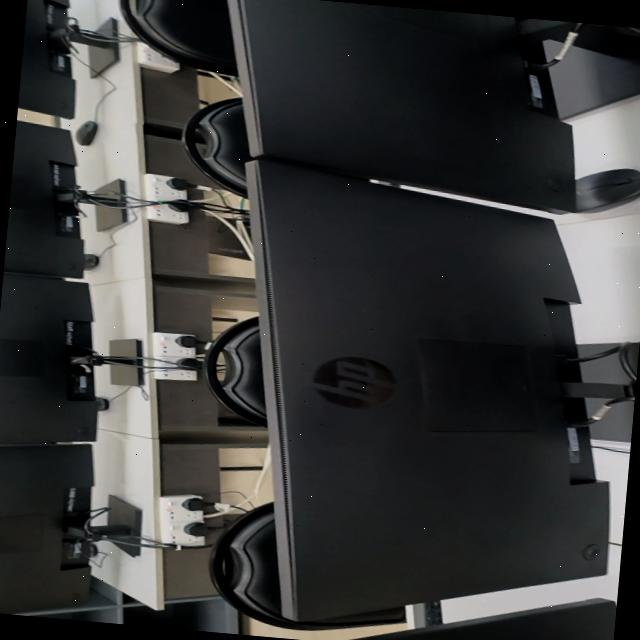Chair: (209, 501, 404, 629), (120, 0, 237, 75), (181, 96, 252, 197), (202, 316, 267, 426)
Monitor: (248, 159, 608, 619), (228, 0, 575, 212), (0, 271, 96, 441), (0, 443, 92, 612), (3, 121, 83, 277), (340, 597, 616, 640), (17, 0, 74, 118)
Mouse: (575, 167, 640, 212), (74, 120, 97, 144)
